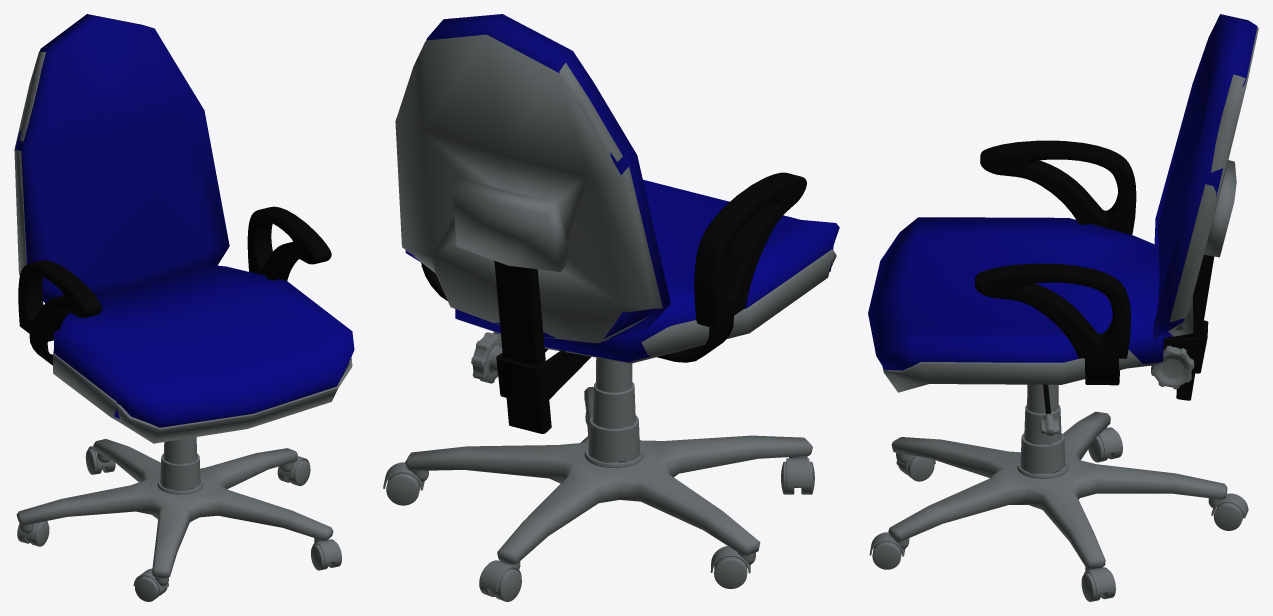
Rendered from chair2.fbx.
3 views of the same model, side by side, from view 1: azimuth 30°, elevation 25°; view 2: azimuth 150°, elevation 25°; view 3: azimuth 270°, elevation 25° (orthographic). The views are drawn at different scales.
Parts seen in each view (by area): view 1: Cube.001, Cube_2, Cylinder, Низ_сидения_3, Выдавливание, Cone, Закругление_1, Низ_сидения, Закругление_2, Шапка_1, Шапка_2, Oil_Tank (+1 smaller); view 2: Низ_сидения, Cylinder, Cube_2, Cube.001, Стойка_спинки, Cone, Низ_сидения_3, Выдавливание, Extrude_NURBS_2, Закругление_1, Шапка_1, Симметрия_1 (+7 smaller); view 3: Cube_2, Cylinder, Cube.001, Низ_сидения, Низ_сидения_3, Закругление_1, Выдавливание, Закругление_2, Cone, Шапка_1, Шапка_2, Стойка_спинки (+7 smaller).
Part boxes in pixels (bbox=[...]): Cube.001: bbox=[15, 14, 229, 303]; Cube_2: bbox=[54, 264, 354, 427]; Cylinder: bbox=[16, 439, 333, 578]; Низ_сидения_3: bbox=[53, 349, 352, 443]; Выдавливание: bbox=[28, 206, 329, 342]; Cone: bbox=[157, 437, 203, 494]; Закругление_1: bbox=[18, 206, 331, 342]; Низ_сидения: bbox=[14, 51, 45, 275]; Закругление_2: bbox=[40, 209, 317, 330]; Шапка_1: bbox=[18, 268, 82, 338]; Шапка_2: bbox=[248, 214, 311, 279]; Oil_Tank: bbox=[135, 576, 167, 601]; Низ_сидения: bbox=[395, 34, 662, 343]; Cylinder: bbox=[405, 387, 812, 564]; Cube_2: bbox=[455, 179, 839, 362]; Cube.001: bbox=[405, 14, 670, 339]; Стойка_спинки: bbox=[494, 260, 551, 433]; Cone: bbox=[584, 357, 643, 467]; Низ_сидения_3: bbox=[457, 249, 836, 363]; Выдавливание: bbox=[697, 172, 799, 328]; Extrude_NURBS_2: bbox=[496, 348, 591, 405]; Закругление_1: bbox=[711, 176, 806, 328]; Шапка_1: bbox=[719, 183, 806, 322]; Симметрия_1: bbox=[421, 263, 733, 362]; Cube_2: bbox=[868, 217, 1164, 370]; Cylinder: bbox=[888, 411, 1227, 569]; Cube.001: bbox=[1153, 14, 1257, 340]; Низ_сидения: bbox=[1168, 27, 1258, 336]; Низ_сидения_3: bbox=[882, 350, 1159, 392]; Закругление_1: bbox=[975, 140, 1130, 358]; Выдавливание: bbox=[975, 141, 1136, 340]; Закругление_2: bbox=[976, 147, 1135, 333]; Cone: bbox=[1017, 384, 1068, 478]; Шапка_1: bbox=[979, 276, 1125, 355]; Шапка_2: bbox=[984, 153, 1131, 232]; Стойка_спинки: bbox=[1176, 255, 1214, 400].
Size of the model in its own units: 652 by 972 by 681.
